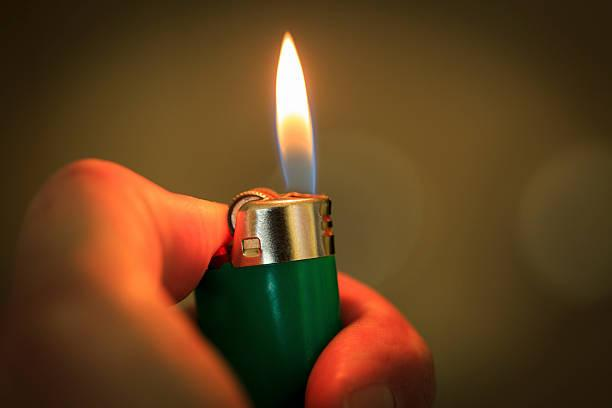Fire: (274, 30, 319, 191)
